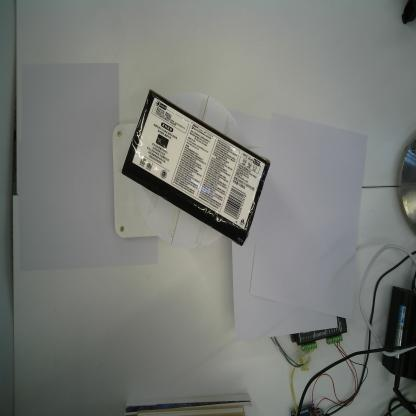Tissue: (121, 87, 272, 248)
